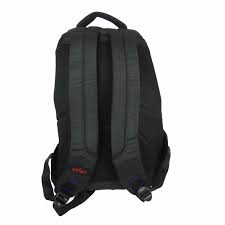backpack: (41, 10, 170, 216)
